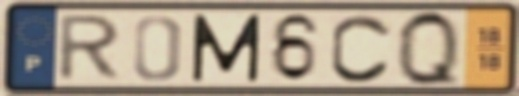0: (131, 13, 185, 83)
6: (267, 12, 321, 85)
C: (327, 12, 395, 86)
M: (190, 12, 264, 84)
Q: (394, 7, 464, 90)
R: (54, 12, 126, 83)
